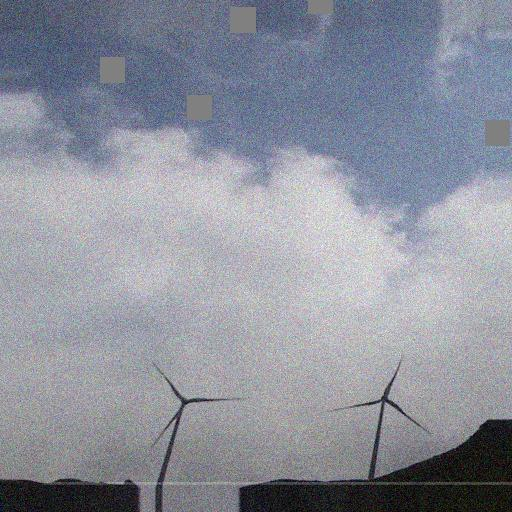wind turbine: (326, 351, 433, 483), (150, 359, 247, 482)
